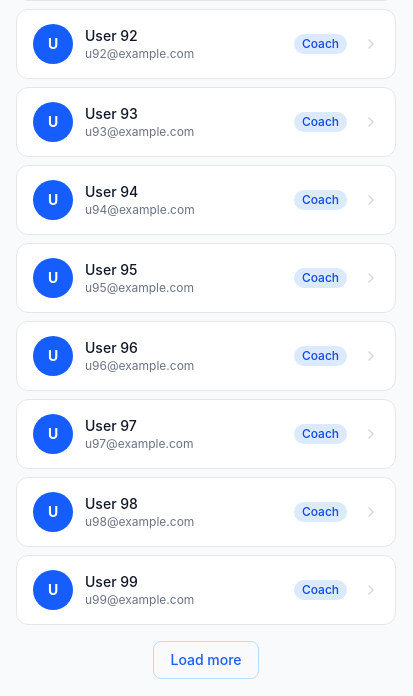
Test: UsersPage — "Load more" fetches next page with startAfter › shows "Loading…" text on the button while fetching the next page
(page scrolled)
Click the button "Load more". click: click(206, 660)
box: [154,641,259,679]
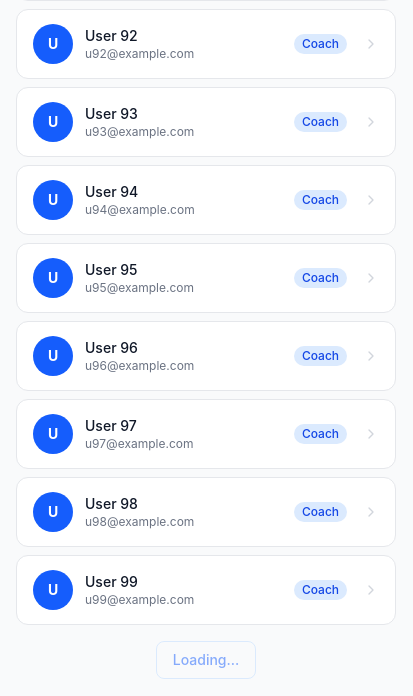
Expected: the button "Loading…" is disabled, [156,641,256,679]
